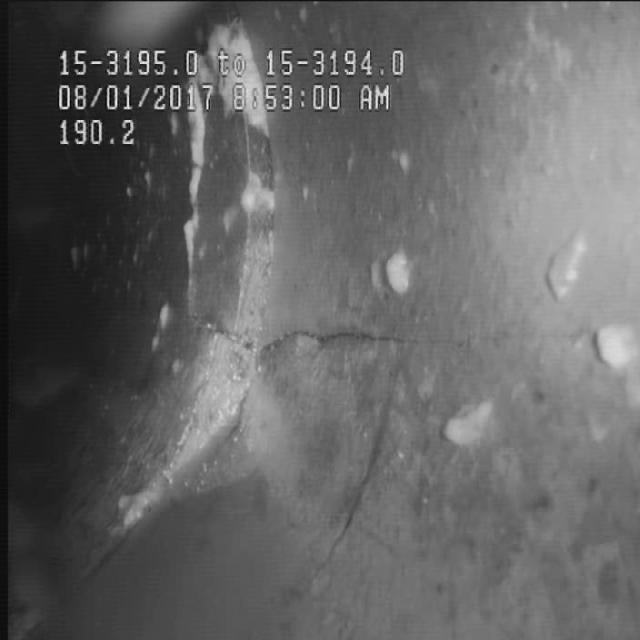Crack: (318, 386, 414, 552), (226, 302, 410, 370)
